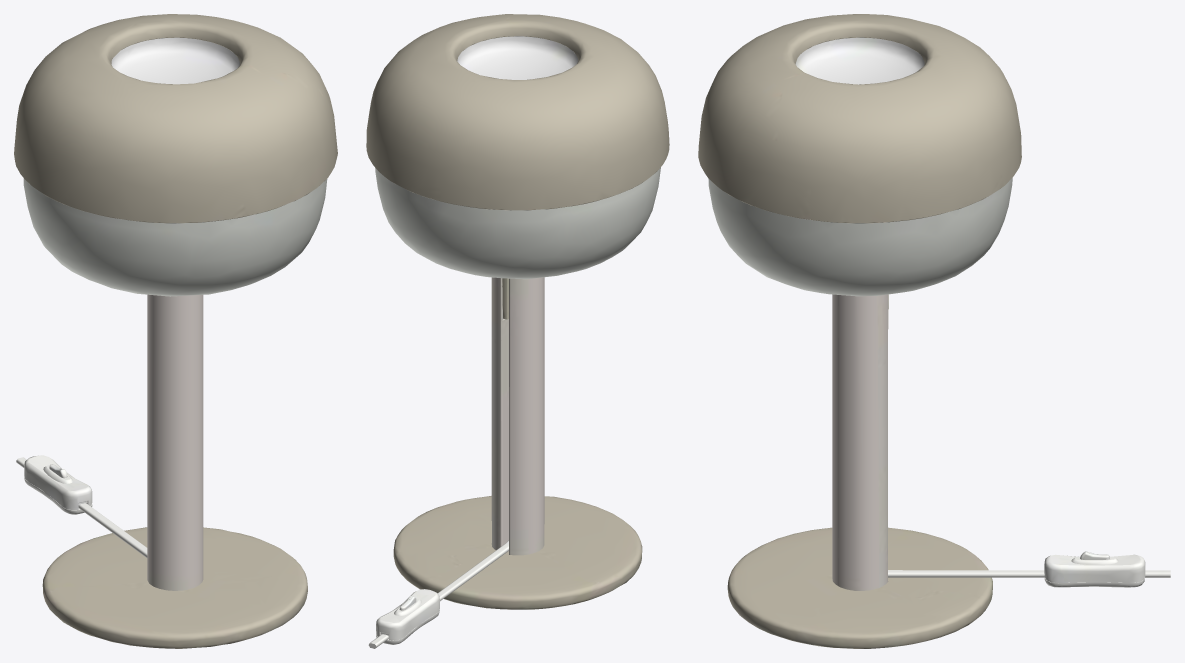
The model's file is 29 - BLÅSVERK Table lamp - beige 36 cm.glb.
The picture shows the model from 3 angles, left to right: view 1: azimuth 30°, elevation 25°; view 2: azimuth 150°, elevation 25°; view 3: azimuth 270°, elevation 25°; orthographic projection. The views are drawn at different scales.
Visible parts, largest first — view 1: 70520926-BLÃƒâ€¦SVERK001; view 2: 70520926-BLÃƒâ€¦SVERK001; view 3: 70520926-BLÃƒâ€¦SVERK001.
Boxes of the visible parts, bbox=[...] form: 70520926-BLÃƒâ€¦SVERK001: bbox=[14, 14, 337, 648]; 70520926-BLÃƒâ€¦SVERK001: bbox=[366, 14, 669, 648]; 70520926-BLÃƒâ€¦SVERK001: bbox=[698, 14, 1170, 648].
Bounding box in the file's own units: 0.1948 × 0.3595 × 0.2845.
Materials: 1 (1 with a texture image).
